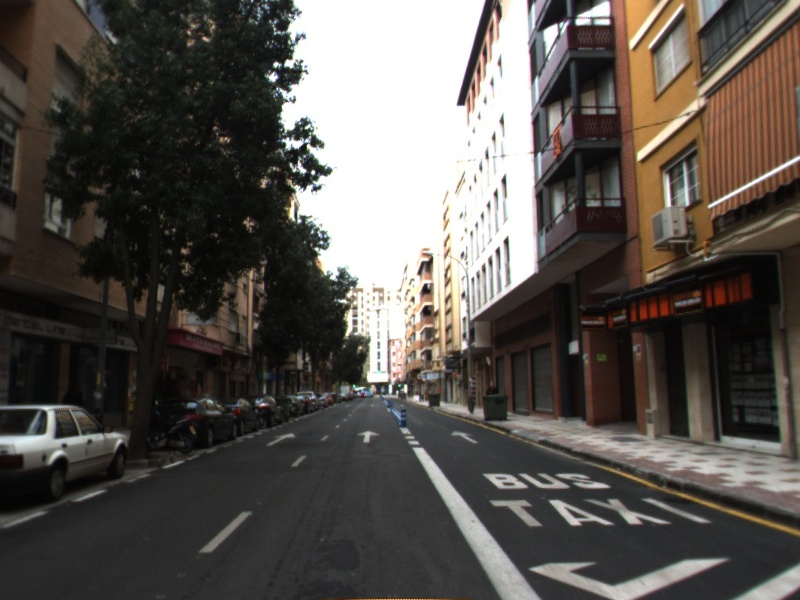STRAIGHT: (264, 431, 298, 448), (449, 428, 481, 445), (355, 429, 383, 444)
